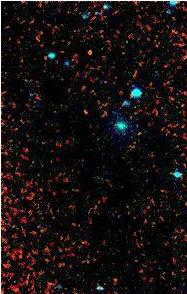star: (75, 37, 105, 67)
